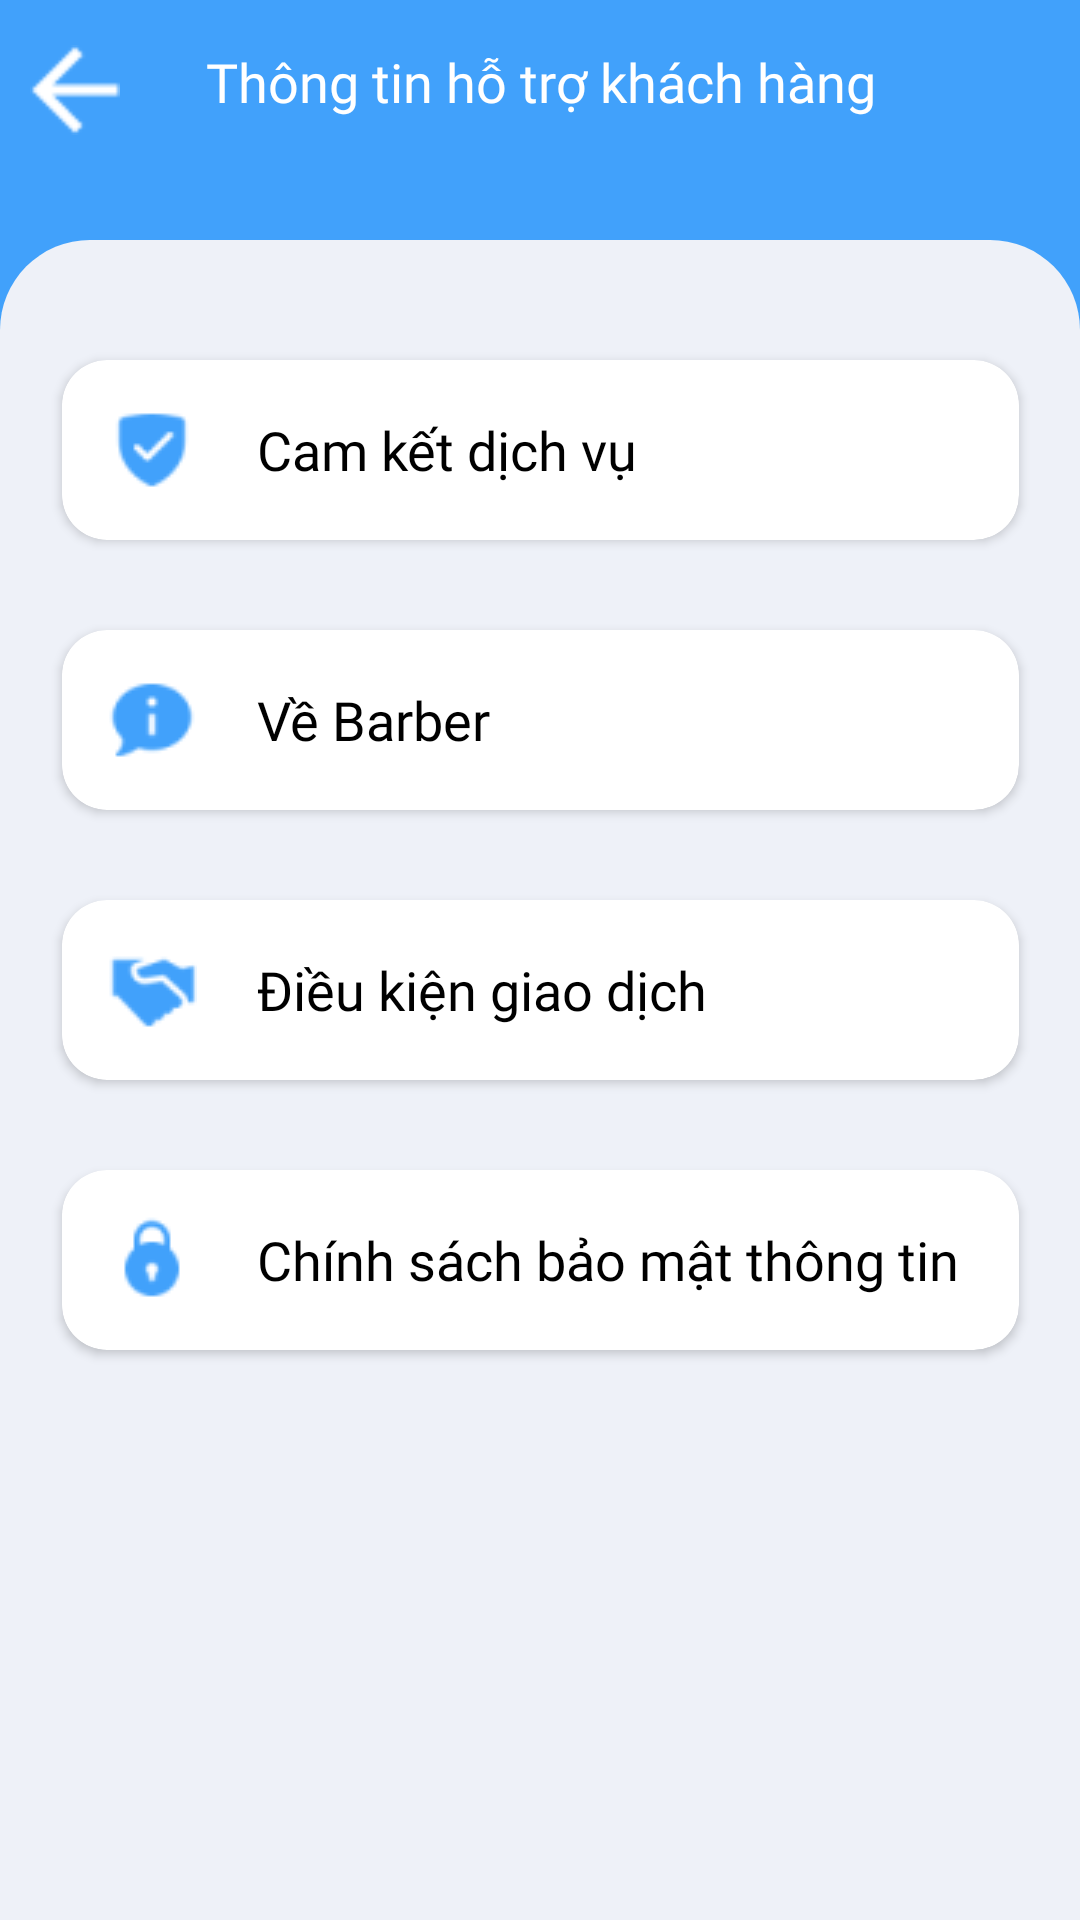

Icon click points for this 1080x1920 phone screenshot, format (x,y):
about: (152,720)
arrow back: (76,90)
info secu: (152,1258)
trading condition: (153,992)
